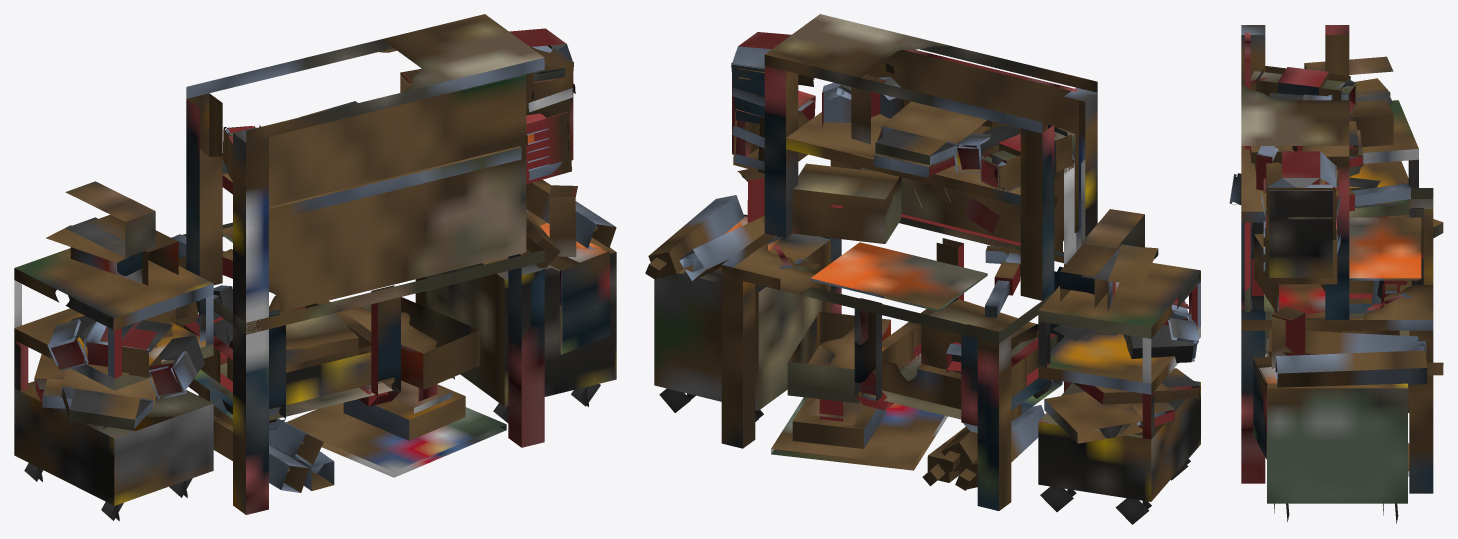
The model's file is workbench.obj.
3 views of the same model, side by side, from view 1: azimuth 30°, elevation 25°; view 2: azimuth 150°, elevation 25°; view 3: azimuth 270°, elevation 25° (orthographic). The views are drawn at different scales.
Parts seen in each view (by area): view 1: cube; view 2: cube; view 3: cube.
Boxes of the visible parts, bbox=[...] form: cube: bbox=[14, 14, 616, 520]; cube: bbox=[645, 14, 1200, 524]; cube: bbox=[1229, 25, 1443, 523].
Size of the model in its own units: 2.96 by 2.02 by 1.11.
